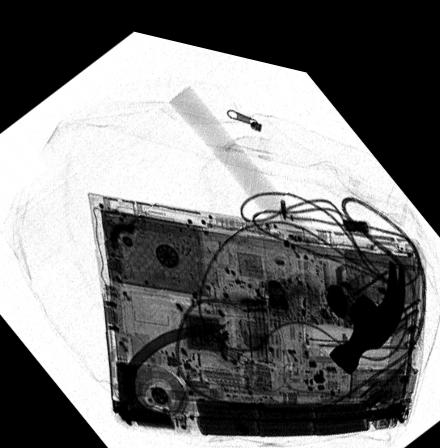Hammer: (168, 76, 405, 358)
